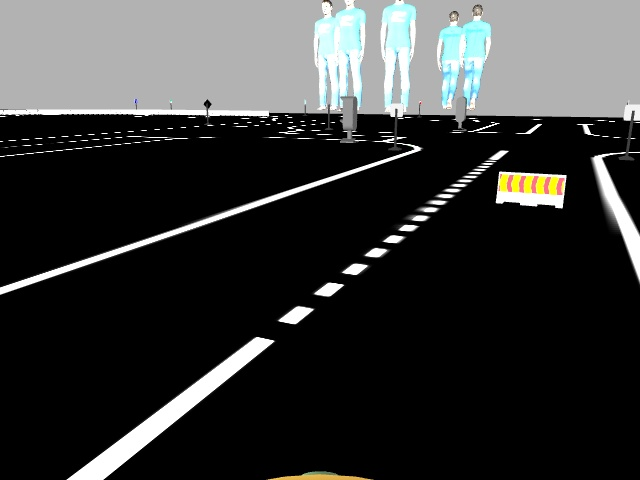ClosedRoadStand: (499, 171, 564, 206)
